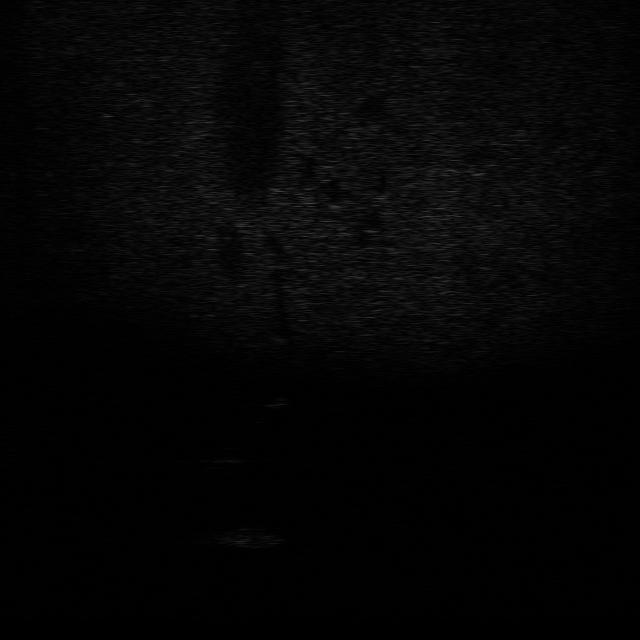ball: (206, 442, 244, 467)
circle cage: (209, 518, 286, 552)
human body: (246, 376, 294, 430)
